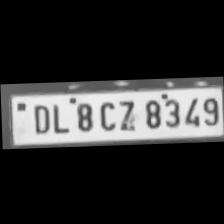3: (161, 93, 181, 127)
4: (180, 92, 200, 126)
8: (70, 98, 94, 132), (138, 94, 162, 128)
9: (198, 93, 220, 126)
C: (93, 96, 115, 130)
D: (27, 100, 49, 133)
L: (47, 99, 69, 133)
Z: (114, 96, 138, 131)
